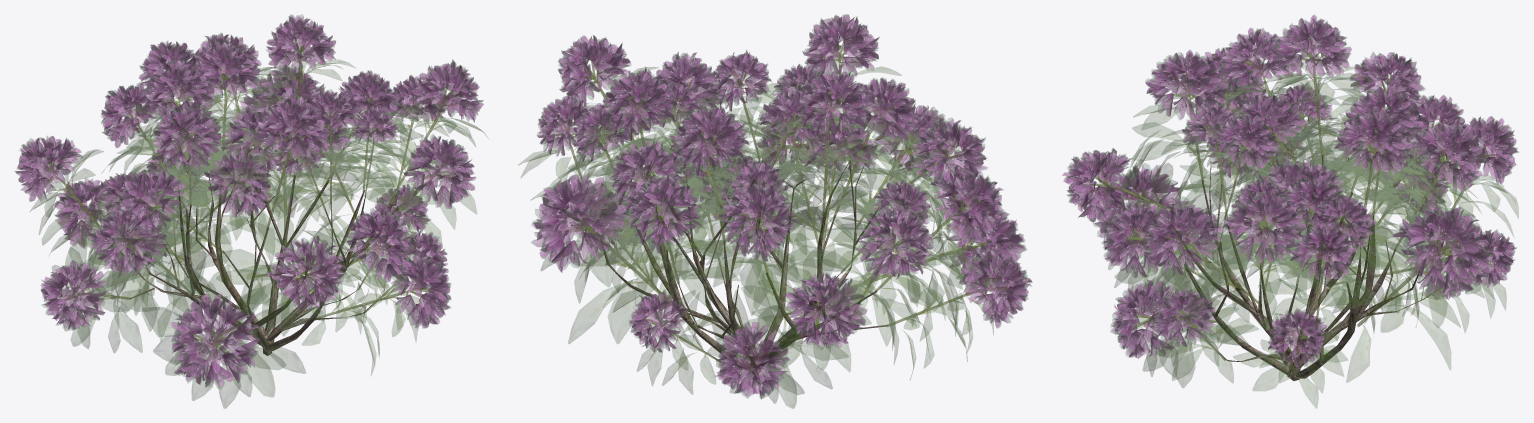
The model's file is preview.glb.
The picture shows the model from 3 angles, left to right: view 1: azimuth 30°, elevation 25°; view 2: azimuth 150°, elevation 25°; view 3: azimuth 270°, elevation 25°; orthographic projection. The views are drawn at different scales.
Parts seen in each view (by area): view 1: Shrub_Rhododendron_ponticum_A_Flower_glb, Shrub_Rhododendron_ponticum_A_Leaf_glb, Shrub_Rhododendron_ponticum_A_Bark_glb; view 2: Shrub_Rhododendron_ponticum_A_Flower_glb, Shrub_Rhododendron_ponticum_A_Leaf_glb, Shrub_Rhododendron_ponticum_A_Bark_glb; view 3: Shrub_Rhododendron_ponticum_A_Flower_glb, Shrub_Rhododendron_ponticum_A_Leaf_glb, Shrub_Rhododendron_ponticum_A_Bark_glb.
Part boxes in pixels (x1,y1,x2,y2): Shrub_Rhododendron_ponticum_A_Flower_glb: (14,14,483,389); Shrub_Rhododendron_ponticum_A_Leaf_glb: (30,39,488,408); Shrub_Rhododendron_ponticum_A_Bark_glb: (115,159,394,355); Shrub_Rhododendron_ponticum_A_Flower_glb: (531,14,1032,398); Shrub_Rhododendron_ponticum_A_Leaf_glb: (518,38,1009,408); Shrub_Rhododendron_ponticum_A_Bark_glb: (595,155,887,374); Shrub_Rhododendron_ponticum_A_Flower_glb: (1062,14,1518,367); Shrub_Rhododendron_ponticum_A_Leaf_glb: (1085,37,1518,408); Shrub_Rhododendron_ponticum_A_Bark_glb: (1163,155,1439,380).
Bounding box in the file's own units: 1.38 × 0.9303 × 1.2.
Materials: 3 (3 with a texture image).
